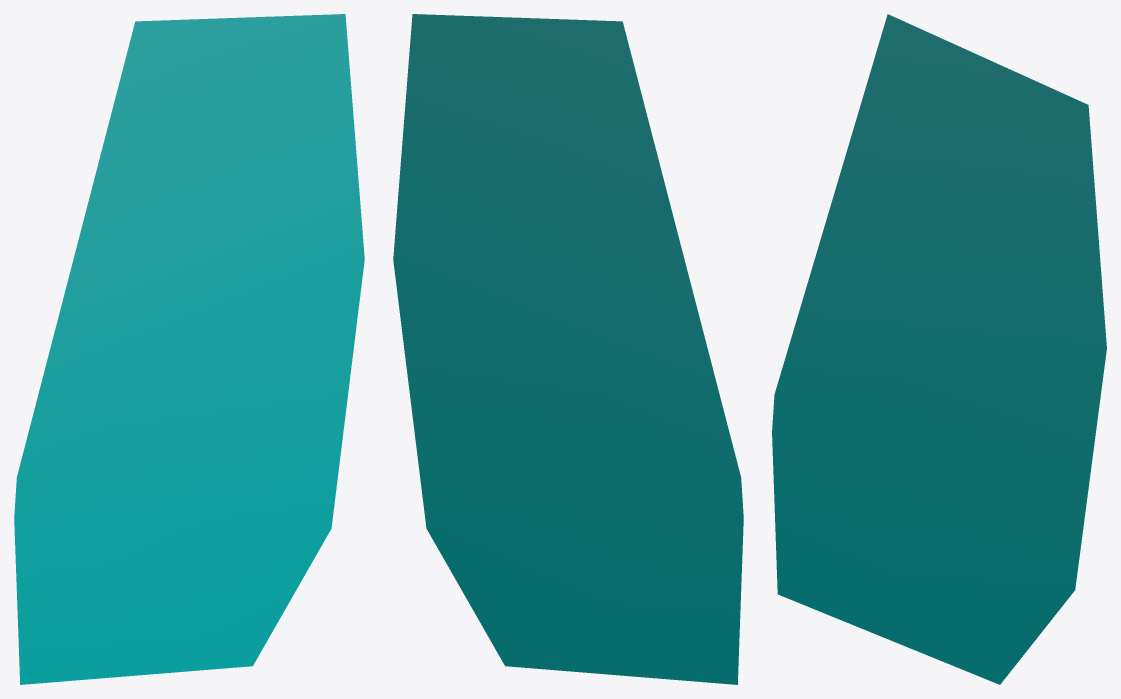
File: Wheat_Grass_tdcrdbur_Mid_tdcrdbur_VarE_LOD2.fbx
The picture shows the model from 3 angles, left to right: view 1: azimuth 30°, elevation 25°; view 2: azimuth 150°, elevation 25°; view 3: azimuth 330°, elevation 25°; orthographic projection. The views are drawn at different scales.
Visible parts, largest first — view 1: _bf29_VarE_LOD3; view 2: _bf29_VarE_LOD3; view 3: _bf29_VarE_LOD3.
Boxes of the visible parts, x1,y1,x2,y2 form: _bf29_VarE_LOD3: (14,14,364,684); _bf29_VarE_LOD3: (393,14,743,684); _bf29_VarE_LOD3: (772,14,1106,684).
Bounding box in the file's own units: 36.2 × 66.46 × 0.
